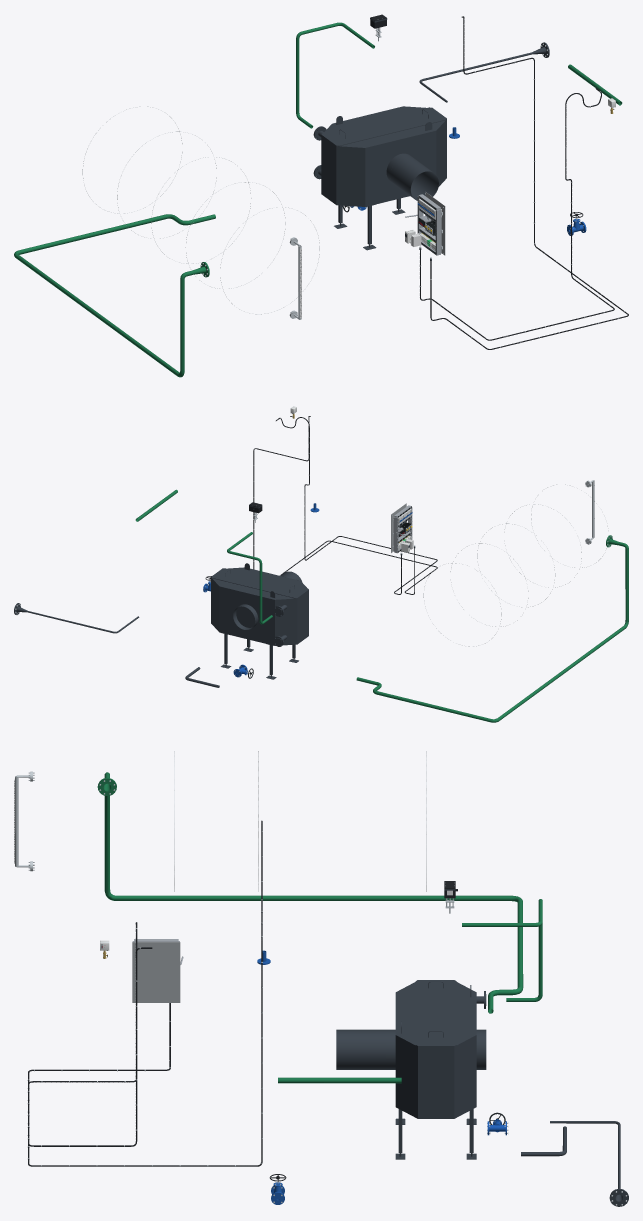
The picture shows the model from 3 angles, top to bottom: view 1: azimuth 30°, elevation 25°; view 2: azimuth 150°, elevation 25°; view 3: azimuth 270°, elevation 25°; orthographic projection. The views are drawn at different scales.
Parts seen in each view (by area): view 1: EQS2-2000 CAD 3, EQS2-2000 CAD 0, deaerator_feed / green, EQS2-2000 CAD 1, cabinet_interior / cabinet_interior_0.npz, flue_spacer / dark, gpz_drive_cable / black, wiring_pressure_switch_3 / black, deaerator_details / steel, from_economizer / green, tds_to_fv / dark; view 2: EQS2-2000 CAD 0, EQS2-2000 CAD 3, deaerator_feed / green, EQS2-2000 CAD 2, cabinet_interior / cabinet_interior_0.npz, gpz_drive_cable / black, wiring_pressure_switch_3 / black, deaerator_details / steel, from_economizer / green; view 3: EQS2-2000 CAD 3, deaerator_feed / green, cabinet_interior / cabinet_interior_0.npz, flue_spacer / dark, EQS2-2000 CAD 0, gpz_drive_cable / black, wiring_pressure_switch_3 / black, deaerator_details / steel, from_economizer / green, pump_delivery / green, tds_to_fv / dark.
Part boxes in pixels (x1,y1,x2,y2): EQS2-2000 CAD 3: (321,106,446,204); EQS2-2000 CAD 0: (334,131,436,250); deaerator_feed / green: (14,214,215,377); EQS2-2000 CAD 1: (336,146,365,206); cabinet_interior / cabinet_interior_0.npz: (405,192,445,255); flue_spacer / dark: (390,156,438,200); gpz_drive_cable / black: (430,16,628,349); wiring_pressure_switch_3 / black: (420,88,614,340); deaerator_details / steel: (82,106,319,319); from_economizer / green: (296,22,374,128); tds_to_fv / dark: (419,42,549,102); EQS2-2000 CAD 0: (219,586,298,679); EQS2-2000 CAD 3: (211,563,308,644); deaerator_feed / green: (356,535,628,722); EQS2-2000 CAD 2: (273,598,297,646); cabinet_interior / cabinet_interior_0.npz: (391,503,412,553); gpz_drive_cable / black: (253,416,437,594); wiring_pressure_switch_3 / black: (276,417,437,594); deaerator_details / steel: (423,480,608,646); from_economizer / green: (227,532,272,624); EQS2-2000 CAD 3: (395,980,476,1118); deaerator_feed / green: (97,772,523,1013); cabinet_interior / cabinet_interior_0.npz: (132,939,183,1002); flue_spacer / dark: (336,1029,385,1069); EQS2-2000 CAD 0: (386,1029,486,1159); gpz_drive_cable / black: (28,820,262,1166); wiring_pressure_switch_3 / black: (28,922,170,1146); deaerator_details / steel: (15,751,426,891); from_economizer / green: (462,899,542,1001); pump_delivery / green: (278,1077,401,1083); tds_to_fv / dark: (550,1121,628,1206).
Size of the model in its own units: 8.21 by 3.6 by 6.22.
